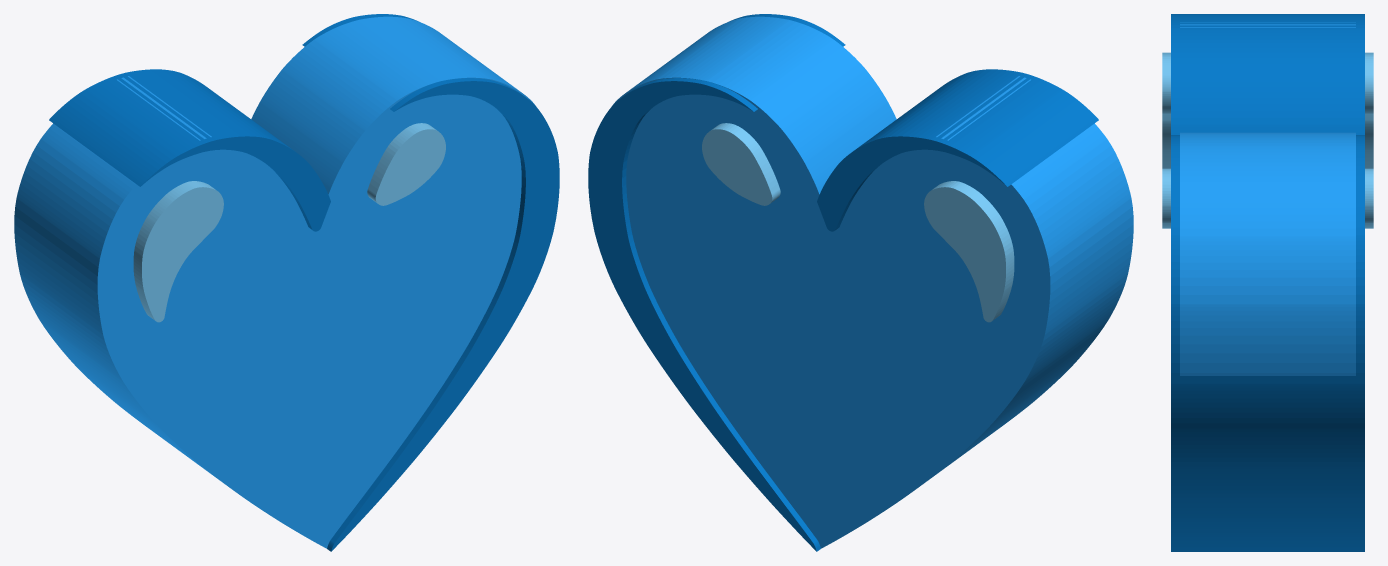
3 views of the same model, side by side, from view 1: azimuth 30°, elevation 25°; view 2: azimuth 150°, elevation 25°; view 3: azimuth 270°, elevation 25° (orthographic). The views are drawn at different scales.
Visible parts, largest first — view 1: U+1FA75_layer00_obj00, U+1FA75_layer01_obj00, U+1FA75_layer01_obj01, U+1FA75_layer02_obj01, U+1FA75_layer02_obj00; view 2: U+1FA75_layer00_obj00, U+1FA75_layer01_obj00, U+1FA75_layer01_obj01, U+1FA75_layer02_obj01, U+1FA75_layer02_obj00; view 3: U+1FA75_layer00_obj00, U+1FA75_layer01_obj01, U+1FA75_layer01_obj00, U+1FA75_layer02_obj01, U+1FA75_layer02_obj00.
Boxes of the visible parts, x1,y1,x2,y2 form: U+1FA75_layer00_obj00: (14, 16, 536, 548); U+1FA75_layer01_obj00: (49, 69, 330, 231); U+1FA75_layer01_obj01: (302, 14, 559, 551); U+1FA75_layer02_obj01: (133, 181, 223, 322); U+1FA75_layer02_obj00: (367, 123, 445, 205); U+1FA75_layer00_obj00: (611, 16, 1133, 548); U+1FA75_layer01_obj00: (817, 69, 1098, 231); U+1FA75_layer01_obj01: (588, 14, 845, 551); U+1FA75_layer02_obj01: (924, 181, 1014, 322); U+1FA75_layer02_obj00: (702, 123, 780, 205); U+1FA75_layer00_obj00: (1180, 22, 1355, 375); U+1FA75_layer01_obj01: (1171, 135, 1364, 551); U+1FA75_layer01_obj00: (1171, 14, 1364, 134); U+1FA75_layer02_obj01: (1162, 52, 1373, 168); U+1FA75_layer02_obj00: (1162, 168, 1373, 228).
Size of the model in its own units: 0.3174 by 0.2912 by 0.12.
